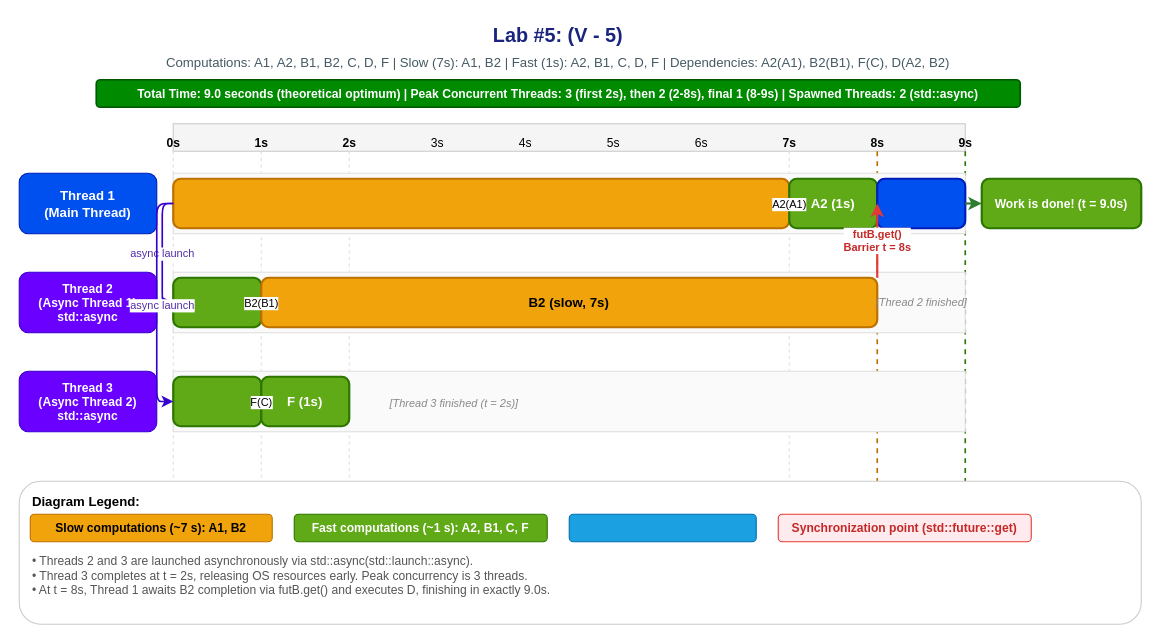
The diagram is 1162 pixels wide and 644 high, and some of its shapes have lost their labels. The centre of each missing label's shape, as x and y in pixels:
A1 (slow, 7s): (x=481, y=203)
B1 (1s): (x=217, y=302)
C (1s): (x=217, y=401)
D (1s): (x=921, y=203)
Final merge: D (~1 s): (x=662, y=527)
